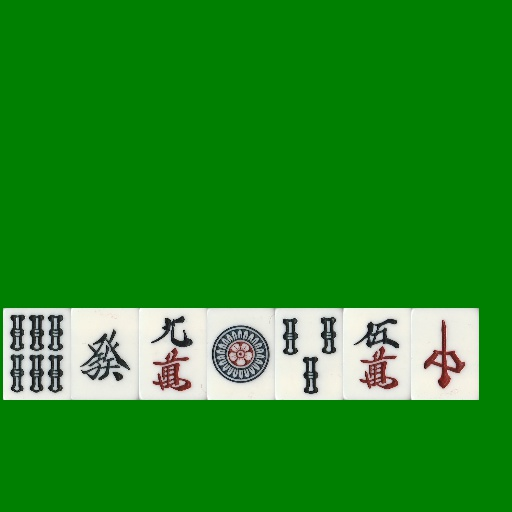1p: (207, 308, 275, 400)
3s: (275, 308, 343, 400)
5m: (343, 308, 411, 400)
6s: (3, 308, 71, 400)
9m: (139, 308, 207, 400)
hatsu: (71, 308, 139, 400)
tyun: (411, 308, 479, 400)
